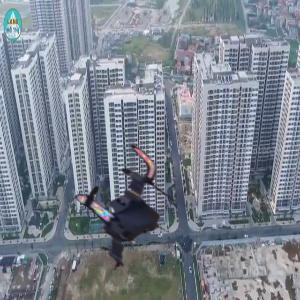drone: (62, 146, 187, 271)
